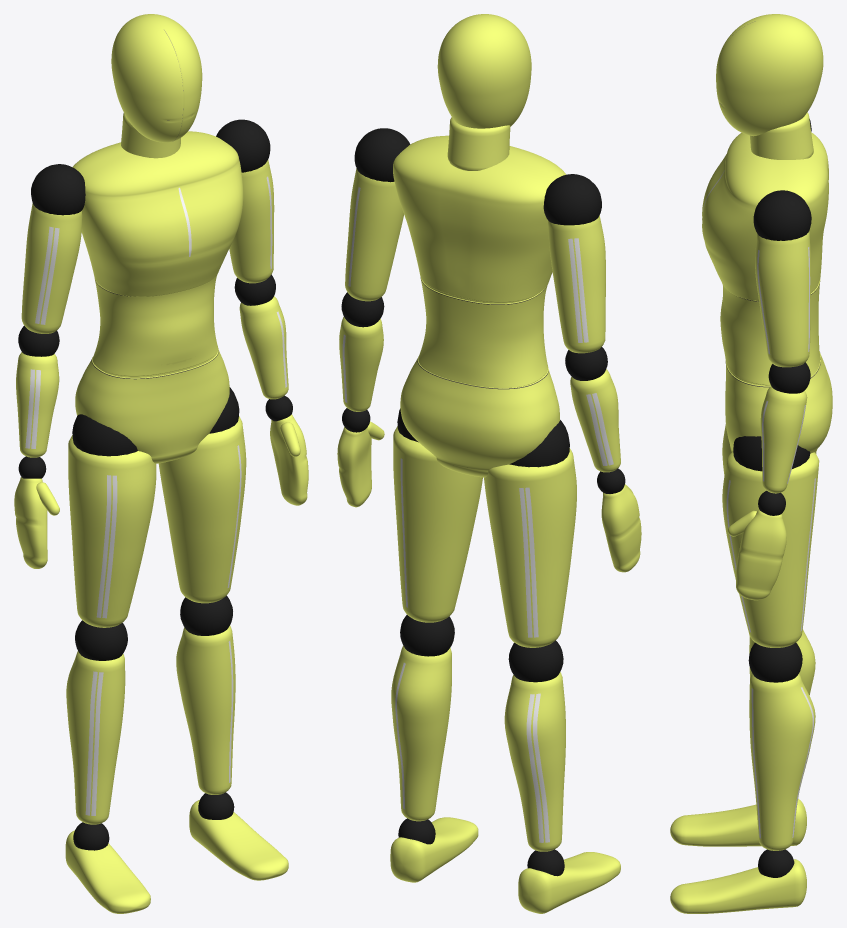
Rendered from person__lite.glb.
The picture shows the model from 3 angles, left to right: view 1: azimuth 30°, elevation 25°; view 2: azimuth 150°, elevation 25°; view 3: azimuth 270°, elevation 25°; orthographic projection. The views are drawn at different scales.
Visible parts, largest first — view 1: geo_chest, geo_thigh_R, geo_thigh_L, geo_pelvis, geo_abdomen, geo_head, geo_shin_L, geo_shin_R, geo_upperArm_R, geo_upperArm_L, geo_foot_L, geo_foot_R (+19 smaller); view 2: geo_chest, geo_thigh_R, geo_pelvis, geo_thigh_L, geo_abdomen, geo_head, geo_shin_L, geo_shin_R, geo_upperArm_R, geo_upperArm_L, geo_foot_R, geo_foot_L (+18 smaller); view 3: geo_chest, geo_head, geo_thigh_L, geo_shin_L, geo_upperArm_L, geo_foot_L, geo_abdomen, geo_pelvis, geo_forearm_L, geo_foot_R, geo_hand_L, ball_shoulder_L (+7 smaller).
Boxes of the visible parts, x1,y1,x2,y2 form: geo_chest: [72, 131, 243, 296]; geo_thigh_R: [68, 435, 156, 627]; geo_thigh_L: [158, 416, 246, 603]; geo_pelvis: [75, 349, 229, 463]; geo_abdomen: [92, 275, 218, 376]; geo_head: [111, 14, 202, 142]; geo_shin_L: [176, 625, 235, 794]; geo_shin_R: [66, 651, 125, 824]; geo_upperArm_R: [21, 203, 82, 333]; geo_upperArm_L: [229, 159, 274, 283]; geo_foot_L: [189, 800, 288, 880]; geo_foot_R: [65, 830, 150, 913]; geo_chest: [393, 135, 565, 302]; geo_thigh_R: [484, 448, 576, 647]; geo_pelvis: [400, 356, 559, 477]; geo_thigh_L: [393, 426, 482, 622]; geo_abdomen: [418, 277, 548, 387]; geo_head: [437, 14, 531, 128]; geo_shin_L: [391, 645, 451, 821]; geo_shin_R: [504, 672, 565, 851]; geo_upperArm_R: [548, 215, 605, 353]; geo_upperArm_L: [345, 168, 403, 301]; geo_foot_R: [518, 852, 620, 913]; geo_foot_L: [390, 817, 478, 882]; geo_chest: [702, 132, 828, 300]; geo_head: [716, 14, 823, 136]; geo_thigh_L: [722, 451, 819, 647]; geo_shin_L: [749, 674, 815, 850]; geo_upperArm_L: [755, 231, 810, 367]; geo_foot_L: [670, 859, 806, 913]; geo_abdomen: [720, 279, 820, 385]; geo_pelvis: [725, 352, 832, 453]; geo_forearm_L: [760, 386, 807, 493]; geo_foot_R: [670, 799, 806, 846]; geo_hand_L: [736, 509, 786, 600]; ball_shoulder_L: [753, 190, 811, 240].
Size of the model in its own units: 0.6083 by 1.75 by 0.301.
